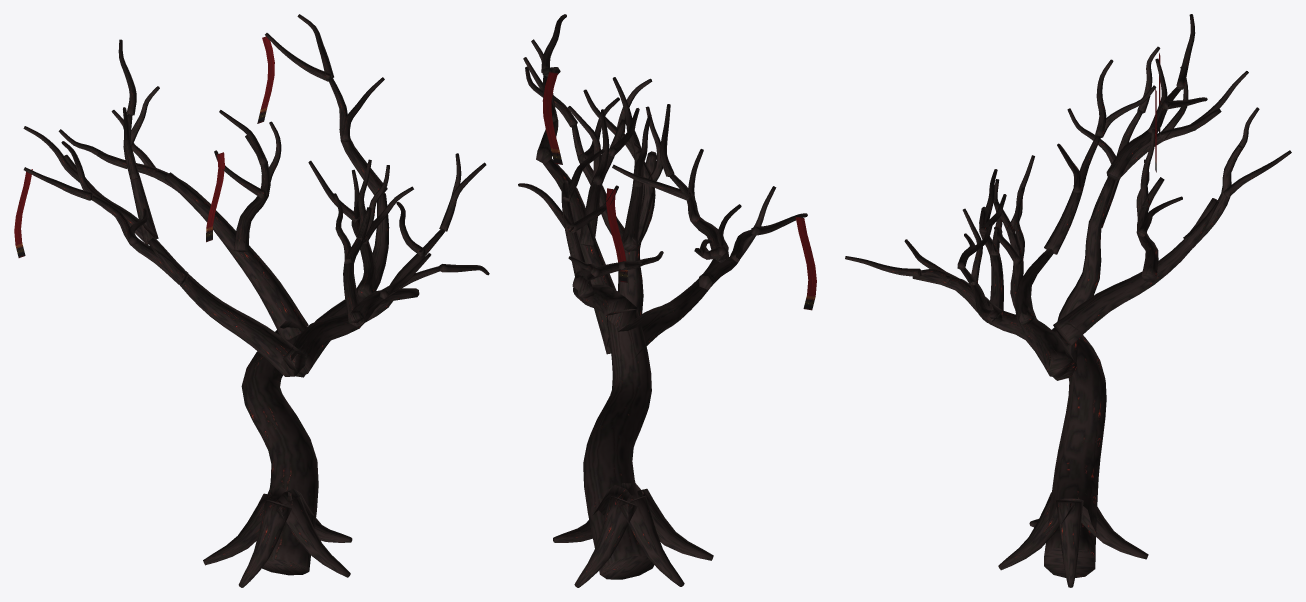
File: dead_tree.glb
3 renders of one model, left to right at view 1: azimuth 30°, elevation 25°; view 2: azimuth 150°, elevation 25°; view 3: azimuth 270°, elevation 25°, orthographic. The views are drawn at different scales.
Parts seen in each view (by area): view 1: DeadTree, DeadTreeRibbons; view 2: DeadTree, DeadTreeRibbons; view 3: DeadTree.
Boxes of the visible parts, bbox=[...] form: DeadTree: bbox=[23, 14, 489, 587]; DeadTreeRibbons: bbox=[14, 36, 274, 257]; DeadTree: bbox=[518, 14, 807, 587]; DeadTreeRibbons: bbox=[542, 72, 816, 310]; DeadTree: bbox=[845, 14, 1291, 587].
Size of what is drawn, in the model's own units: 5.98 by 8.15 by 6.26.
2 materials, 2 textured.
